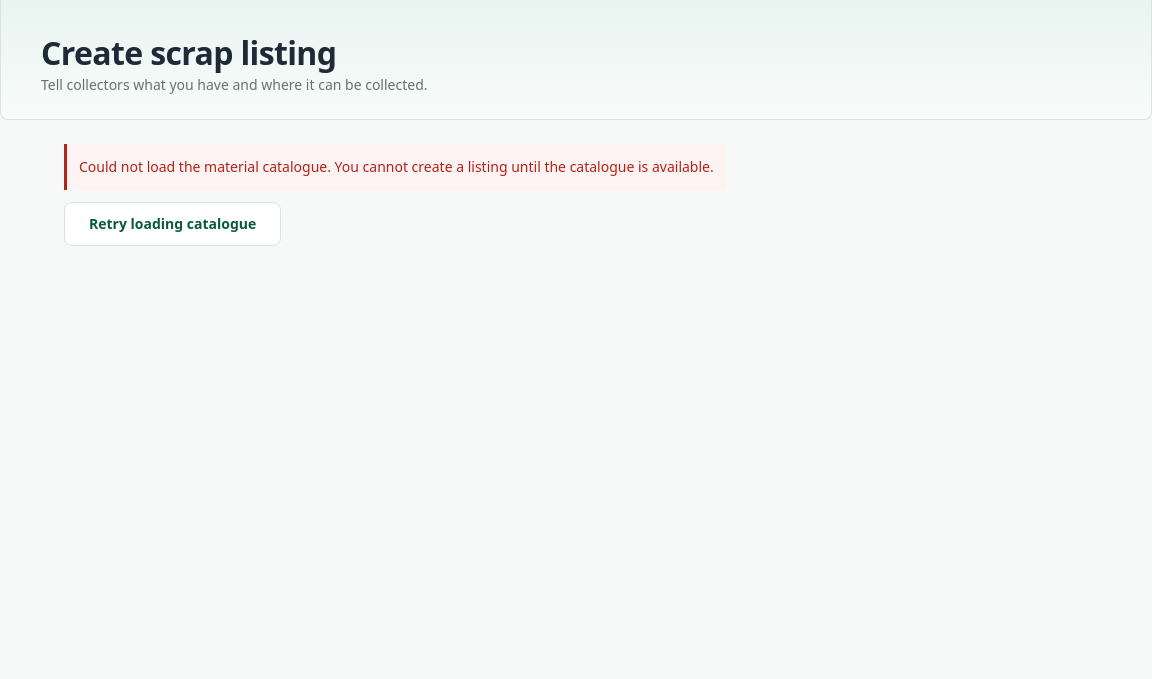
Scenario: DashboardCreateListing catalogue states › shows a retry button on catalogue failure and recovers when retry succeeds
The image size is (1152, 679).
Later steps or results of the test are not shown.
Step 1. Click the button "Retry loading catalogue" → (173, 224), box top-left (64, 202), bottom-right (281, 246)
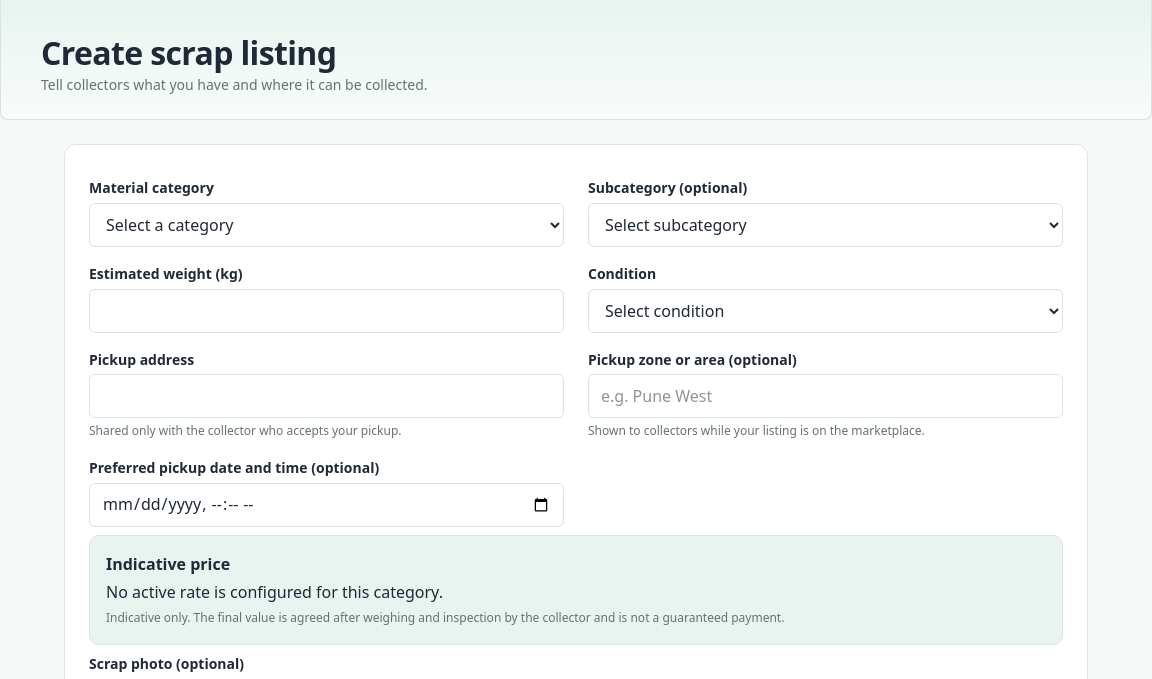
Result: the dropdown with id "category" is shown at top-left (89, 203), bottom-right (564, 247)
